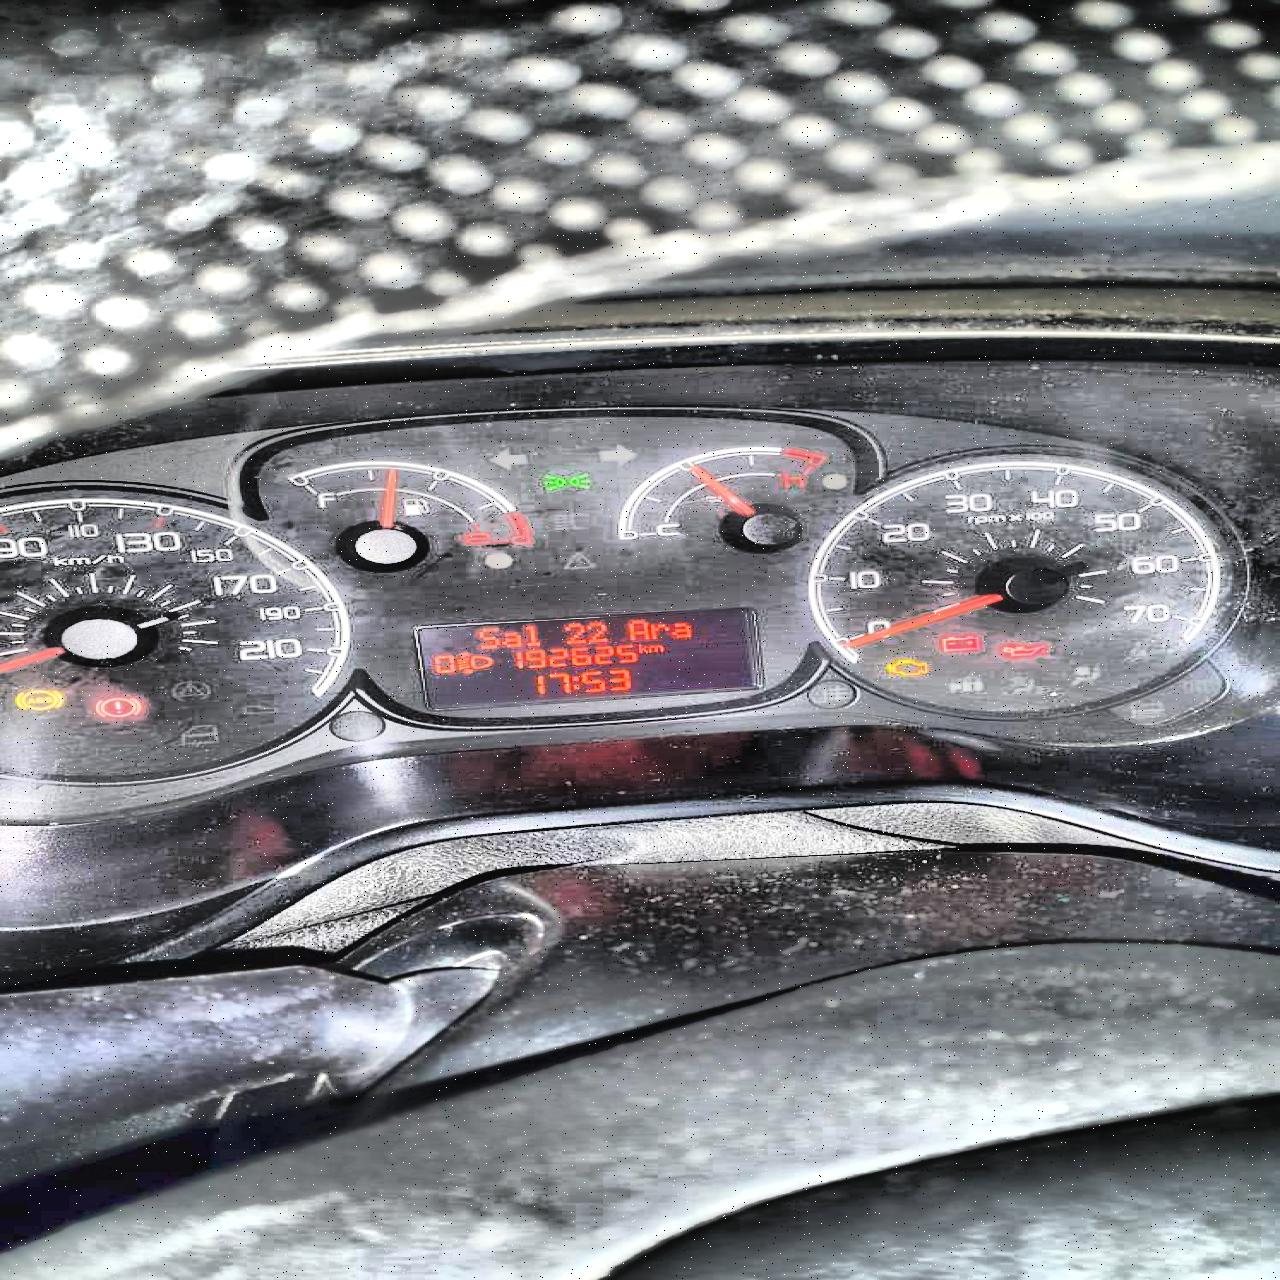0: (430, 653, 454, 674)
1: (531, 672, 546, 696), (512, 651, 524, 670)
2: (560, 622, 586, 644), (586, 620, 610, 642), (593, 645, 613, 665), (546, 648, 567, 667)
3: (606, 667, 628, 692)
5: (579, 670, 607, 692), (615, 644, 635, 663)
6: (568, 645, 593, 665)
7: (549, 670, 568, 694)
9: (524, 648, 545, 668)
X: (477, 626, 501, 648), (627, 618, 649, 639), (523, 624, 542, 647), (501, 629, 520, 647), (670, 621, 690, 639), (649, 621, 667, 639), (568, 674, 579, 690), (646, 644, 663, 652), (635, 641, 646, 652)
odometer: (406, 605, 769, 713)
